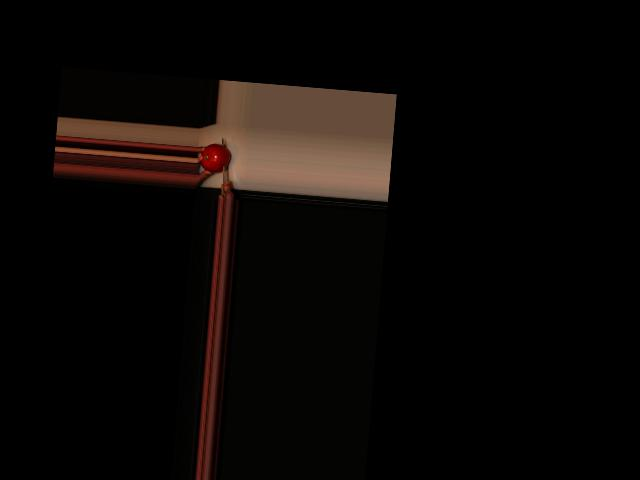tomato: (200, 142, 231, 173)
